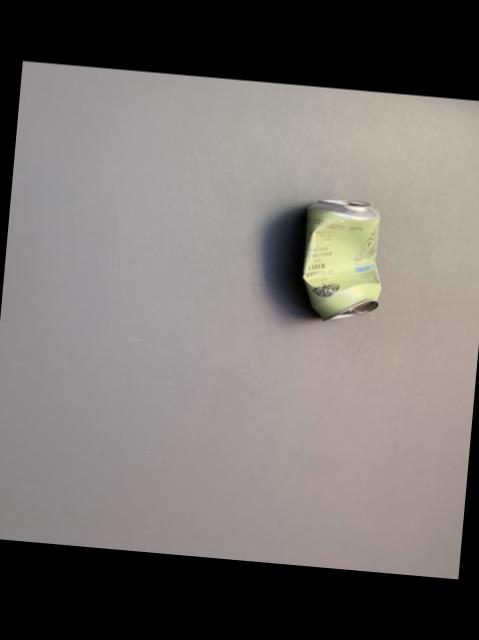metal: (303, 201, 381, 321)
